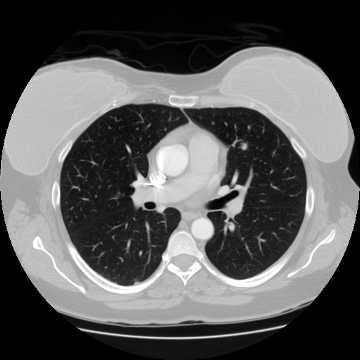nodule: (240, 142, 248, 150)
